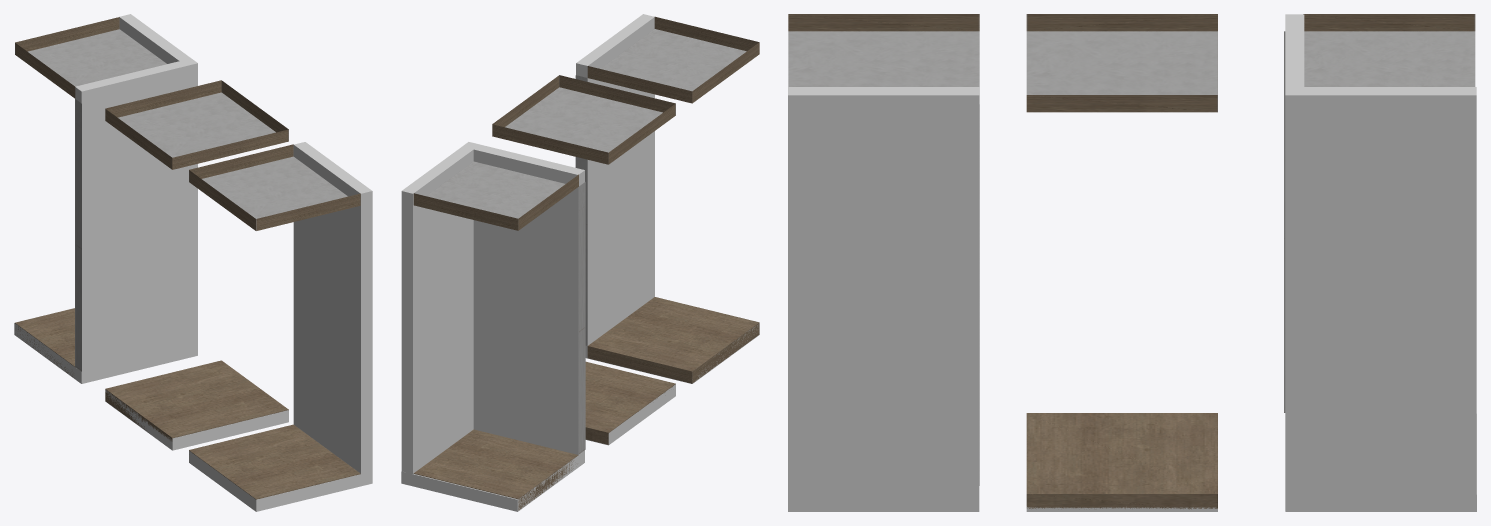
The model's file is LevelTileSet.glb.
3 renders of one model, left to right at view 1: azimuth 30°, elevation 25°; view 2: azimuth 150°, elevation 25°; view 3: azimuth 270°, elevation 25°, orthographic. The views are drawn at different scales.
Parts seen in each view (by area): view 1: CornerWallB-col, WallWall-col, Floor, Wall, Corner, WallFloor-col, FloorFloor-col, CornerWallA-col, CornerFloor-col; view 2: CornerWallB-col, CornerWallA-col, Wall, Corner, Floor, WallWall-col, CornerFloor-col, FloorFloor-col; view 3: WallWall-col, CornerWallA-col, Floor, Wall, Corner, CornerWallB-col, WallFloor-col, CornerFloor-col, FloorFloor-col.
Part boxes in pixels (x1,y1,x2,y2): CornerWallB-col: (75, 61, 197, 383); WallWall-col: (293, 142, 372, 483); Floor: (105, 80, 288, 441); Wall: (189, 144, 360, 499); Corner: (15, 17, 166, 376); WallFloor-col: (189, 451, 372, 511); FloorFloor-col: (105, 390, 288, 450); CornerWallA-col: (119, 14, 197, 65); CornerFloor-col: (14, 322, 197, 383); CornerWallB-col: (473, 144, 584, 454); CornerWallA-col: (401, 142, 479, 473); Wall: (575, 16, 759, 383); Corner: (413, 161, 585, 510); Floor: (492, 75, 675, 444); WallWall-col: (576, 14, 654, 357); CornerFloor-col: (401, 451, 584, 511); FloorFloor-col: (585, 384, 675, 445); WallWall-col: (788, 87, 979, 494); CornerWallA-col: (1285, 87, 1476, 494); Floor: (1026, 14, 1217, 509); Wall: (788, 14, 979, 485); Corner: (1284, 14, 1475, 412); CornerWallB-col: (1285, 14, 1304, 511); WallFloor-col: (788, 494, 979, 511); CornerFloor-col: (1286, 414, 1476, 511); FloorFloor-col: (1026, 507, 1217, 511).
Size of the model in its own units: 1 by 2.4 by 3.6.
1 material, 1 textured.
